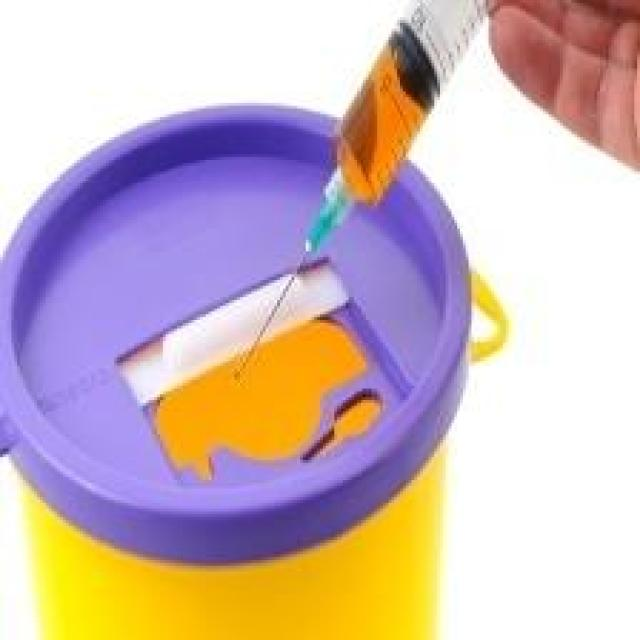syringe: (264, 7, 489, 397)
